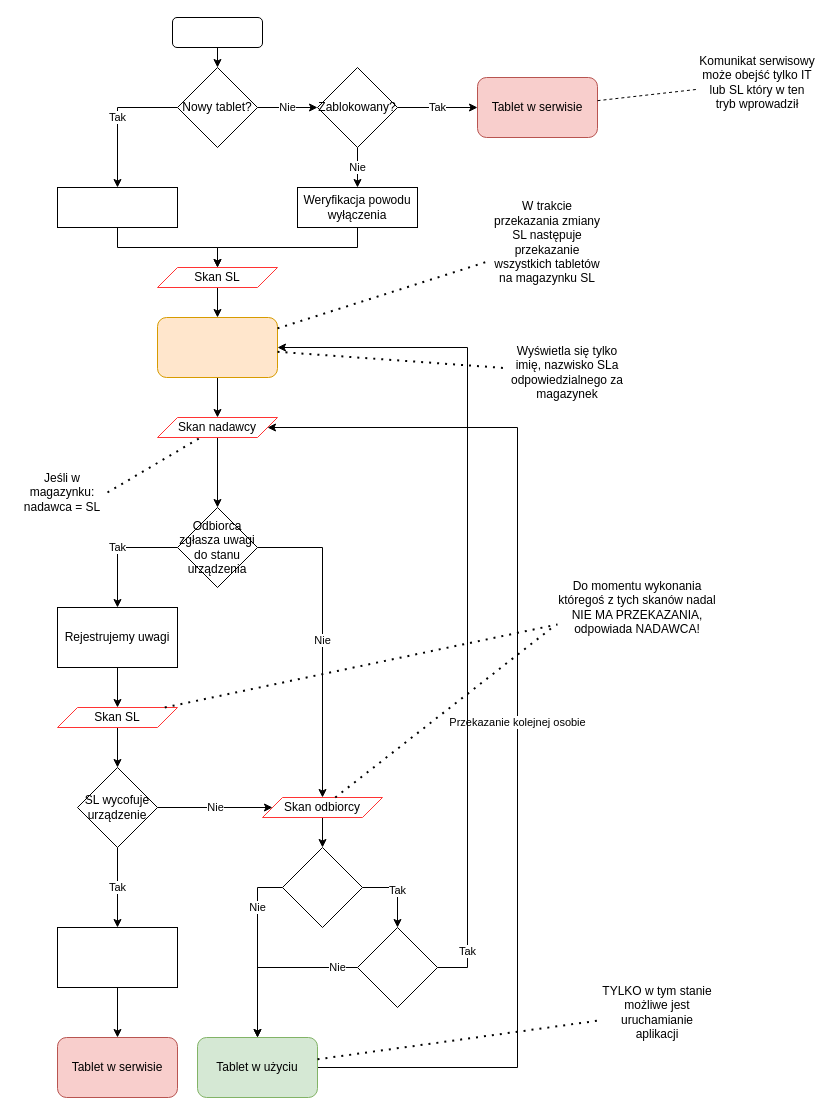
Image size: 834x1115. Some labels were removed from this diagram. Each missing label, with the centre of its shape:
"Blokada tabletu" goes at (x=117, y=957).
"Do magazynku?" goes at (x=397, y=967).
"Dodanie nowego tabletu do systemu" goes at (x=117, y=207).
"Odbiorcą jest SL?" goes at (x=322, y=887).
"Start aplikacji" goes at (x=217, y=32).
"Tablet w magazynku SL" goes at (x=217, y=347).
